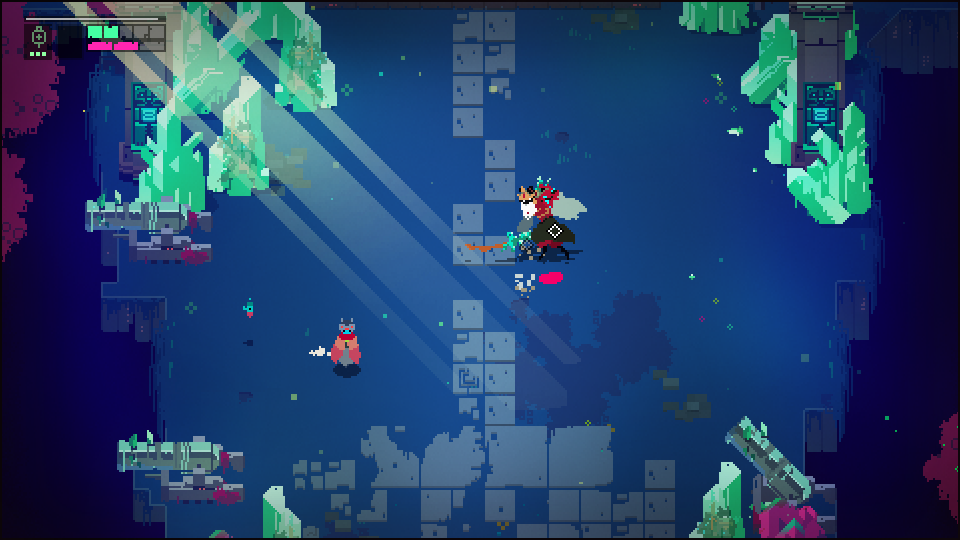hanged_man: (498, 174, 593, 266)
player: (327, 313, 367, 381)
